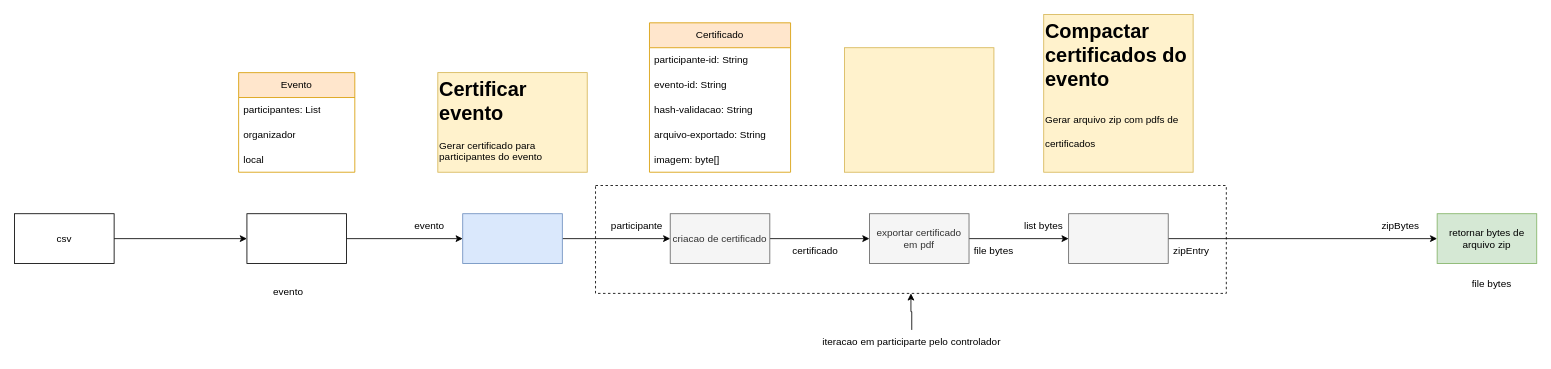
Some shapes in this 1551 by 369 pixel diagram are drawn without their labels. The centre of each missing label's shape, as x and y in pixels:
"certificar evento" goes at point (512, 238).
"compactar arquivo" goes at point (1118, 238).
"cria evento" goes at point (296, 238).
"Exportar certificado Gerar arquivo pdf com bytes de certificado" goes at point (919, 109).
